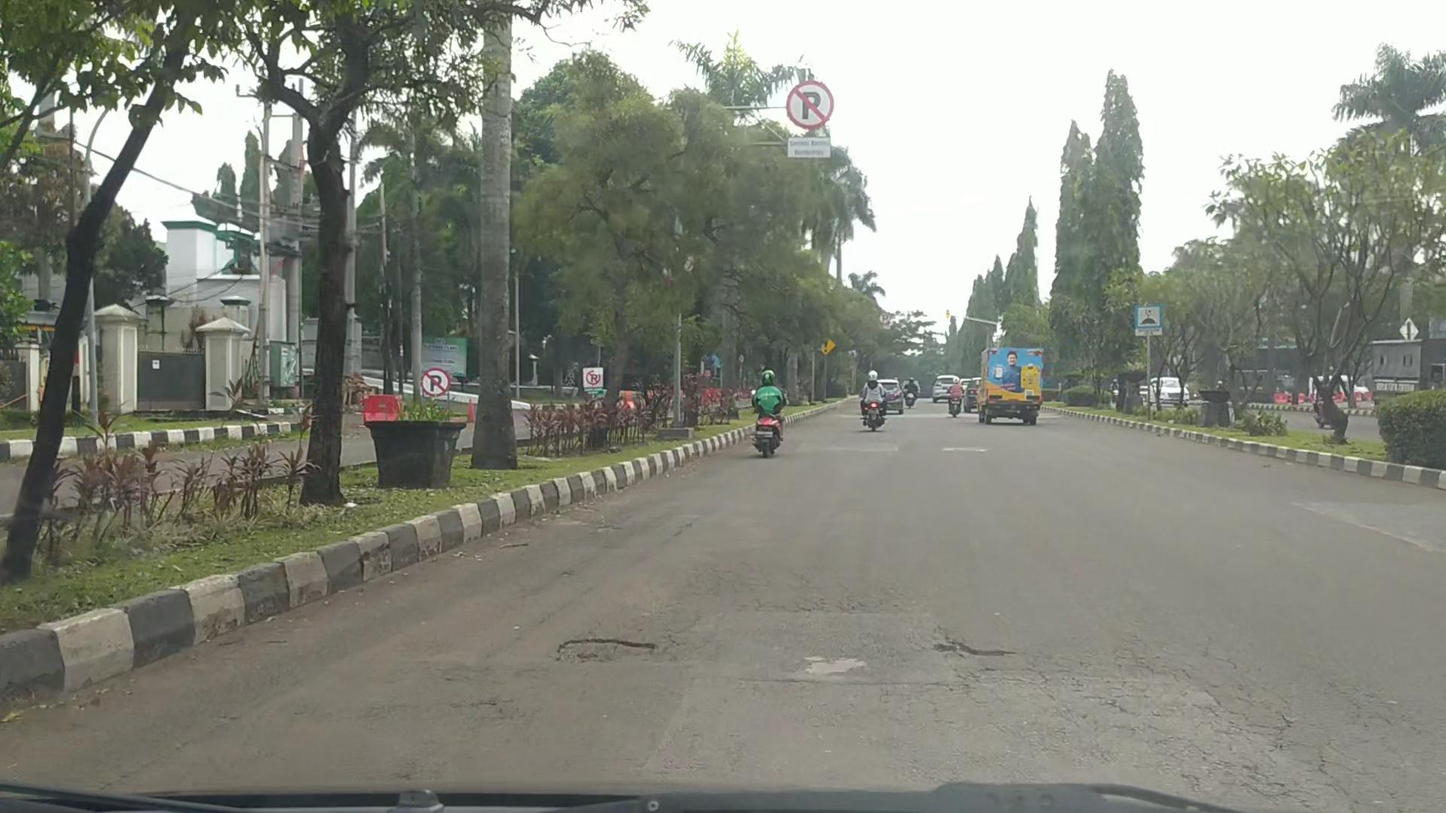pothole: (551, 634, 664, 665), (934, 641, 1016, 657)
